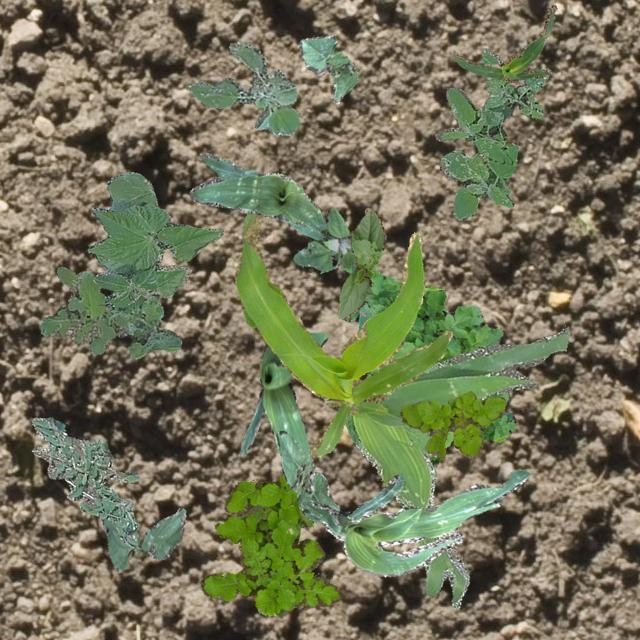crop: (234, 212, 452, 456), (300, 468, 530, 576), (86, 170, 222, 310), (188, 152, 326, 238), (240, 332, 326, 454), (452, 4, 556, 82), (276, 431, 338, 522), (101, 506, 185, 572), (336, 206, 384, 318), (298, 34, 357, 102)
weed: (344, 326, 568, 608), (338, 264, 516, 476), (434, 46, 550, 218), (200, 476, 340, 616), (30, 416, 138, 546), (38, 266, 180, 358), (185, 39, 298, 134), (400, 391, 504, 458), (292, 208, 356, 272)
